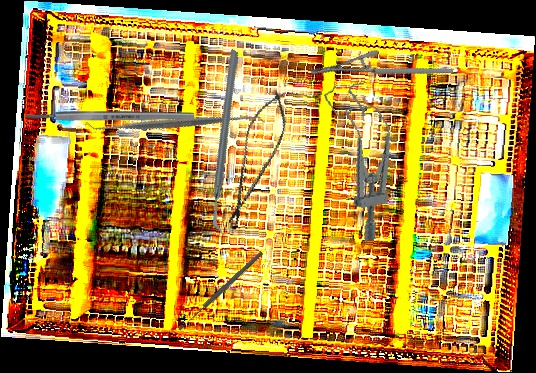Chopper: (147, 48, 307, 236)
Micro Scissor: (216, 84, 297, 233)
Needle Holder: (310, 25, 454, 119)
Scalpel Handle: (26, 111, 194, 121)
Spatula Surgical: (86, 33, 265, 213)
Speculum: (321, 77, 411, 244)
Surgical Spoon: (177, 250, 264, 332)
